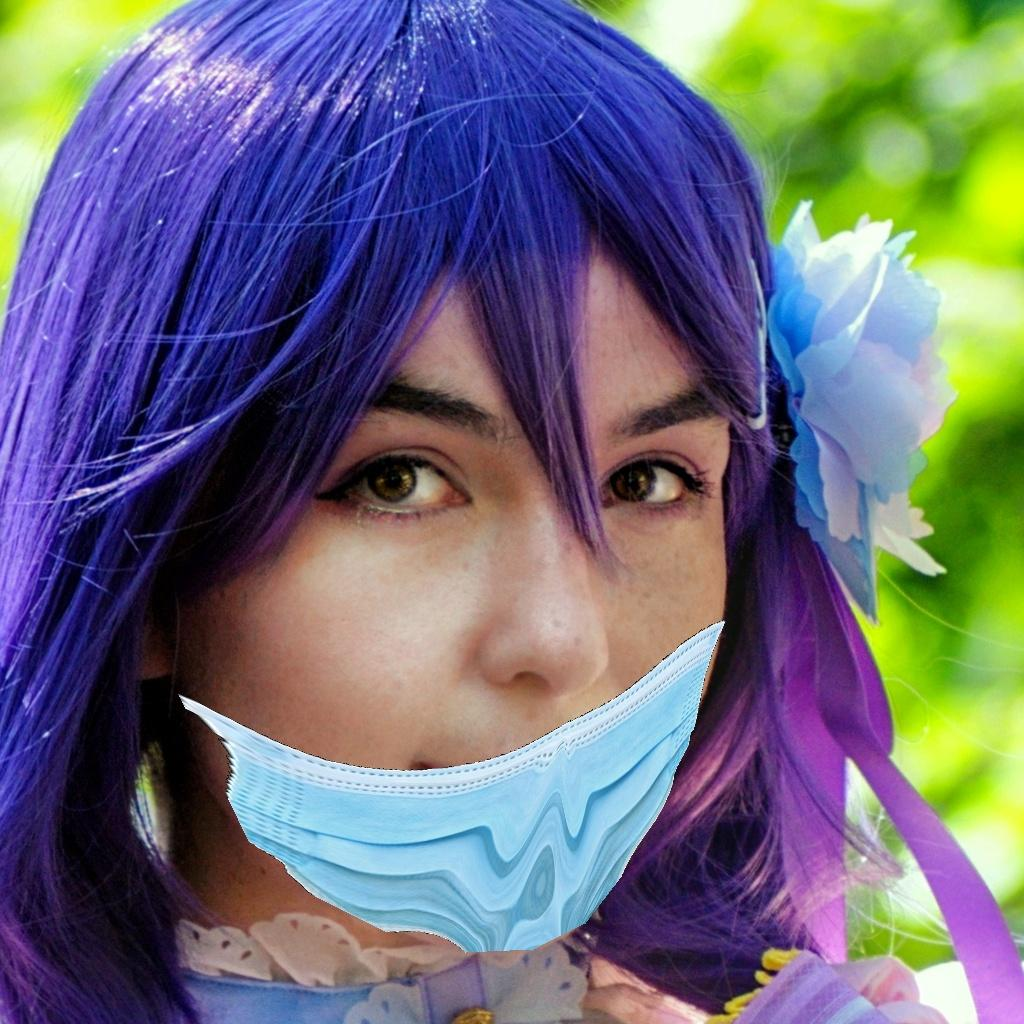Máscara Incorreta: (170, 256, 750, 920)
